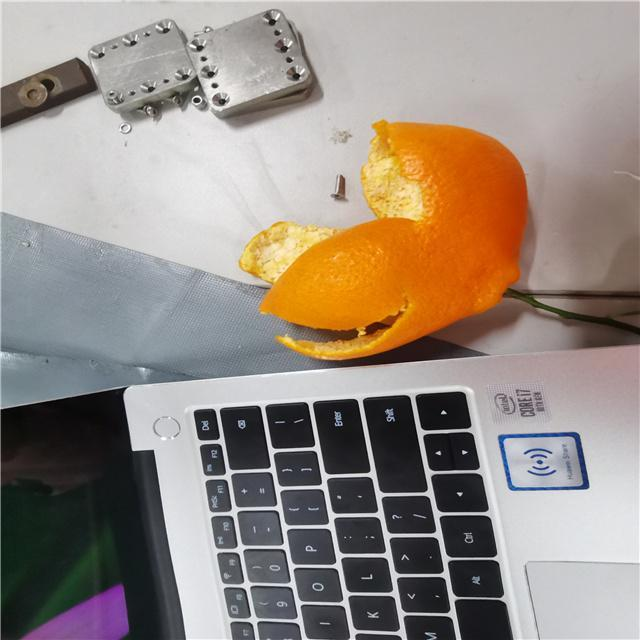orange-peel: (257, 117, 529, 361)
